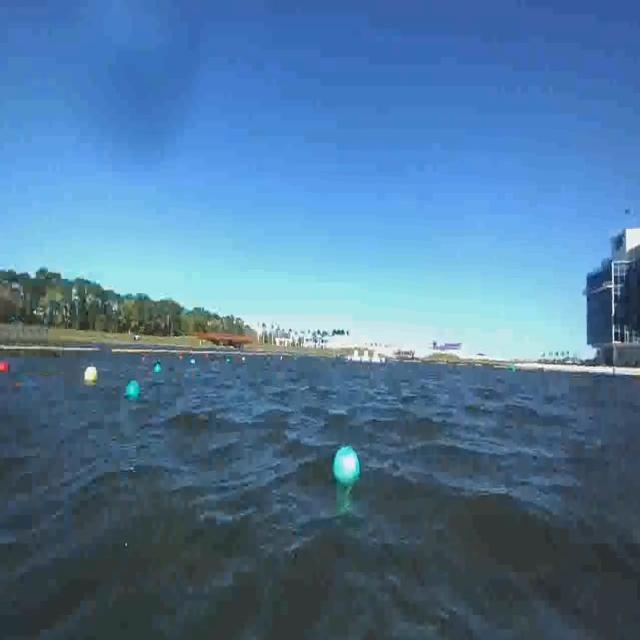green-buoy: (334, 444, 362, 488), (127, 378, 142, 397), (153, 363, 161, 373)
red-buoy: (0, 362, 10, 371)
yellow-buoy: (85, 368, 100, 383)
